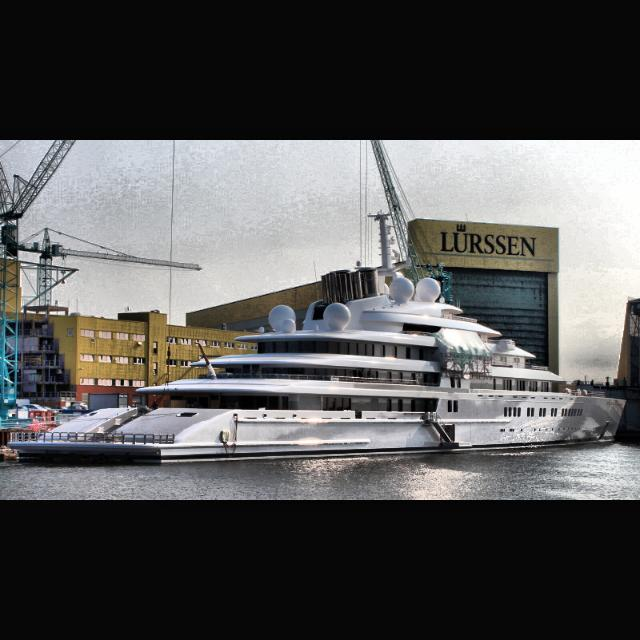yacht: (6, 210, 628, 466)
